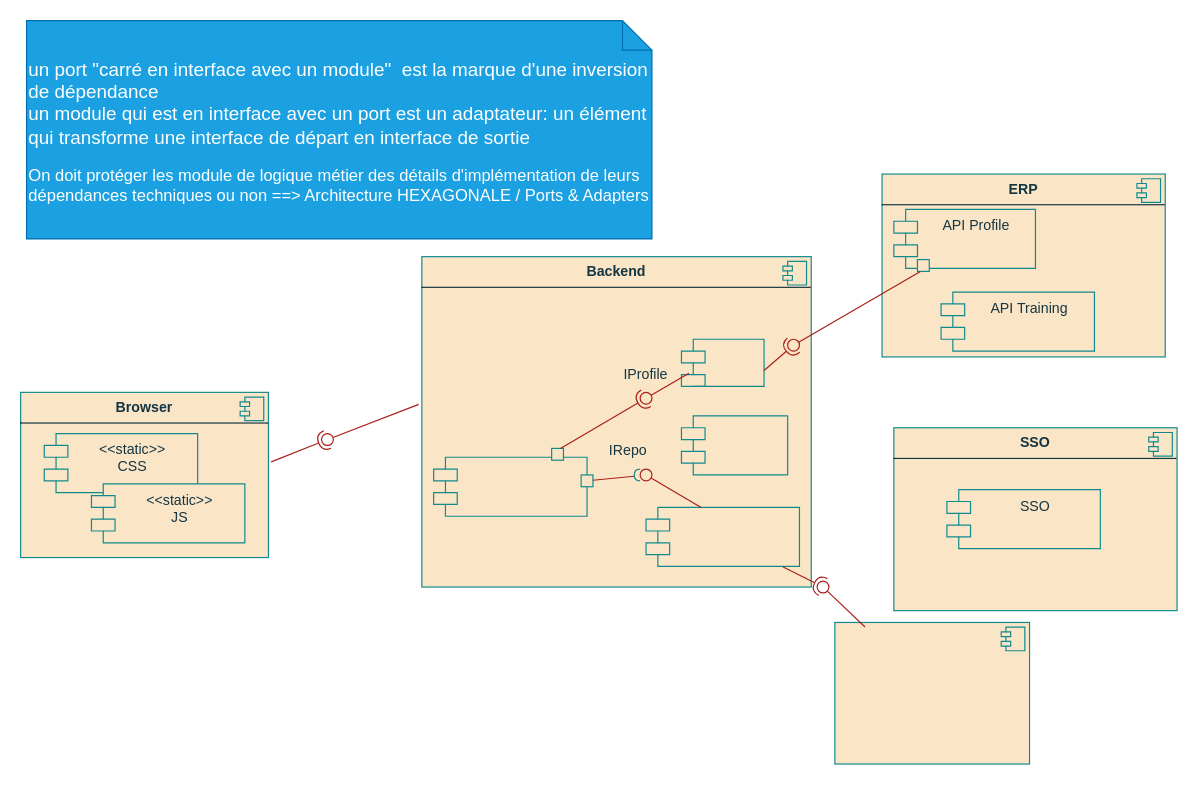
Some shapes in this 1198 by 785 pixel diagram are drawn without their labels. The centre of each missing label's shape, as x and y in pixels:
API Client: [722,362]
Auth: [734,445]
DB: [932,692]
Docs: [509,486]
ORM: [722,536]
